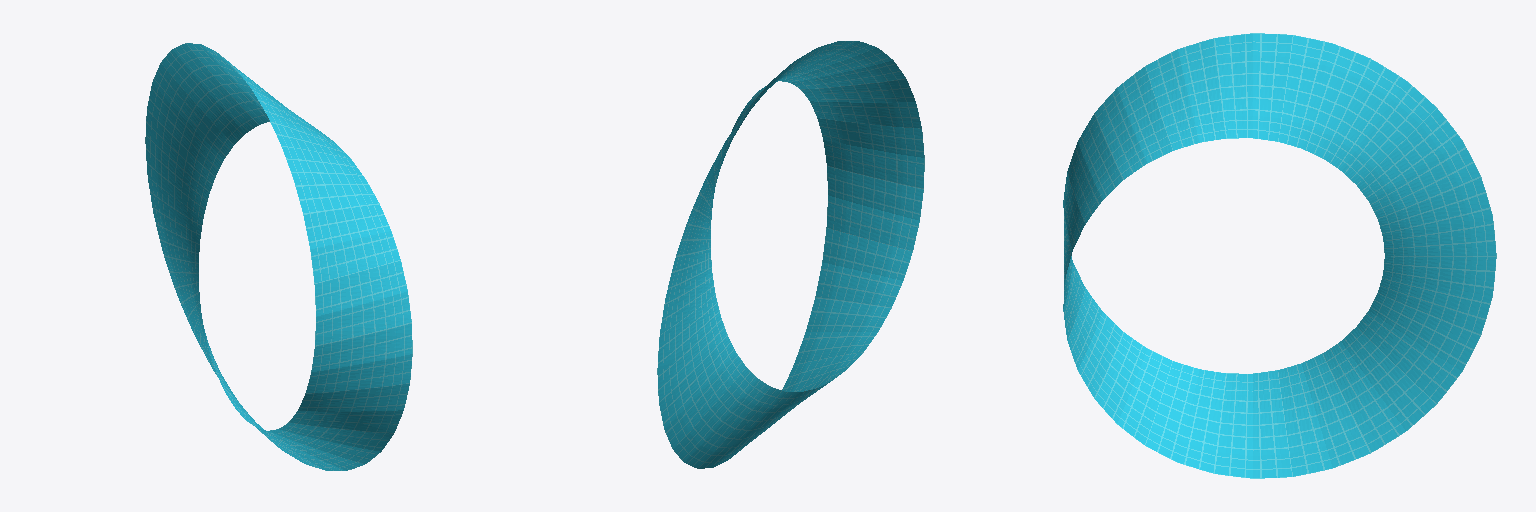
The picture shows the model from 3 angles: view 1: azimuth 30°, elevation 25°; view 2: azimuth 150°, elevation 25°; view 3: azimuth 270°, elevation 25°; orthographic projection.
Visible parts, largest first — view 1: Cube; view 2: Cube; view 3: Cube.
Part boxes in pixels (left/top/right/bottom): Cube: left=145, top=43, right=412, bottom=470; Cube: left=657, top=41, right=924, bottom=468; Cube: left=1063, top=33, right=1496, bottom=478.
Size of the model in its own units: 1.75 by 7.1 by 6.76.
1 materials, 1 textured.